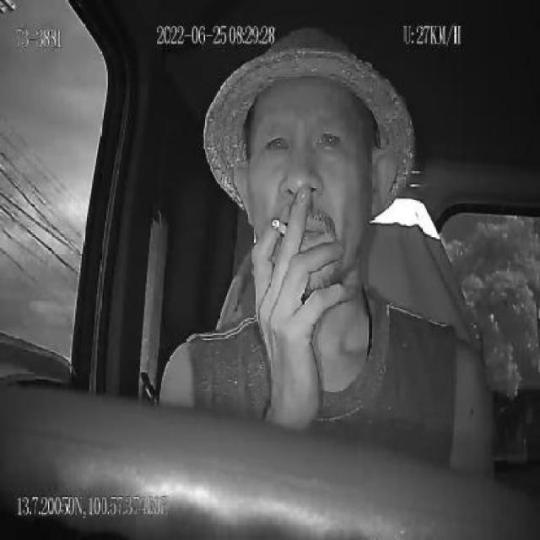smoking: (270, 212, 289, 238)
